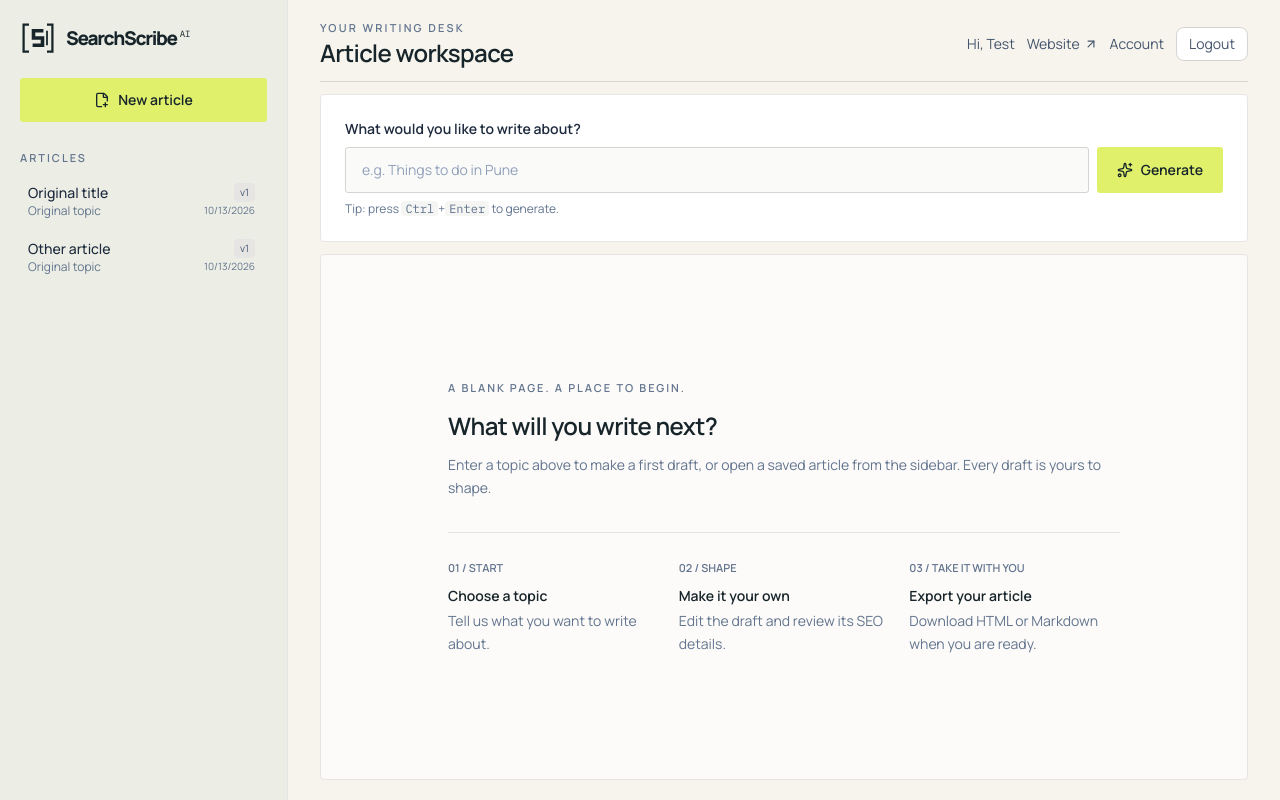
Test case: workspace unsaved edits › deleting articles › closes the open article on delete and reopens it on Undo
Click the button "Original title v1 Original topic 10/13/2026" at coordinates (142, 200), box [20,174,263,226]
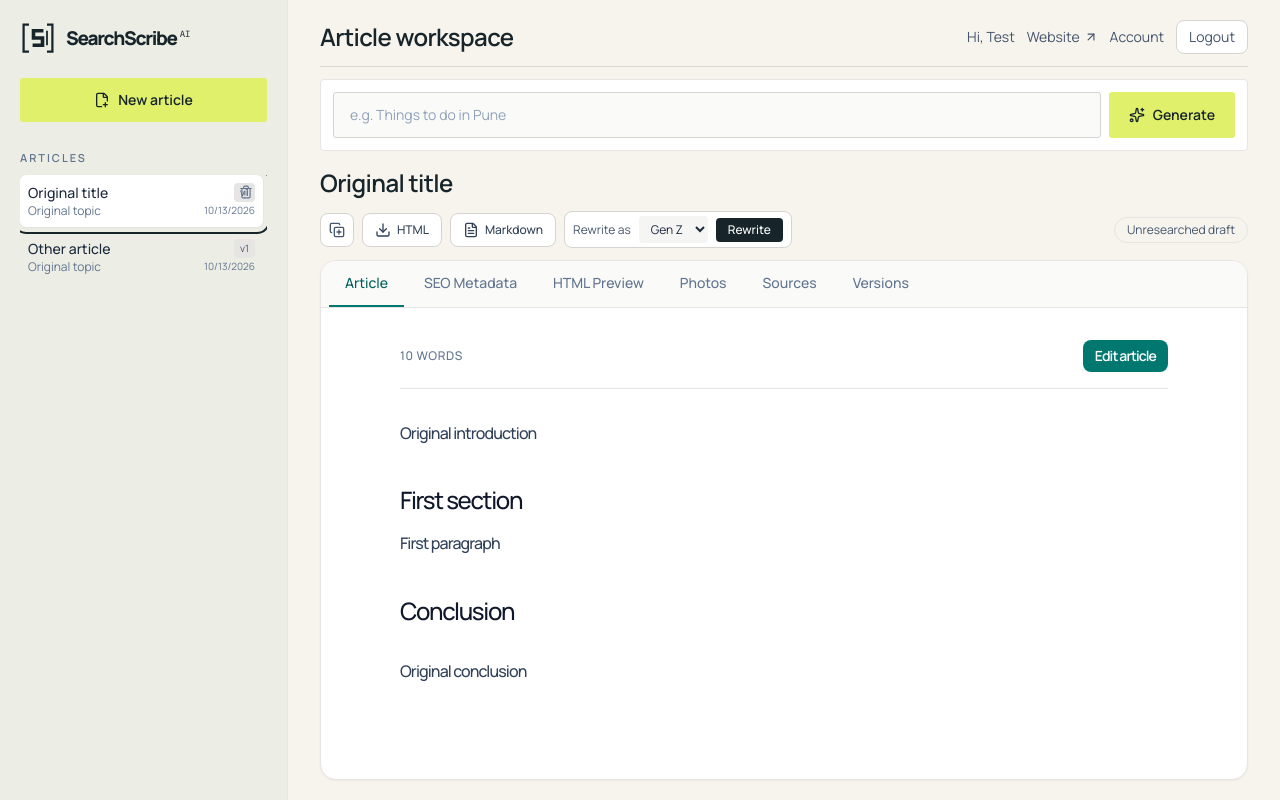
Expected: the button "Edit article" is shown, [1083,340,1168,372]
Click the button named "Delete Original title" at coordinates (246, 192), box [235,180,257,202]
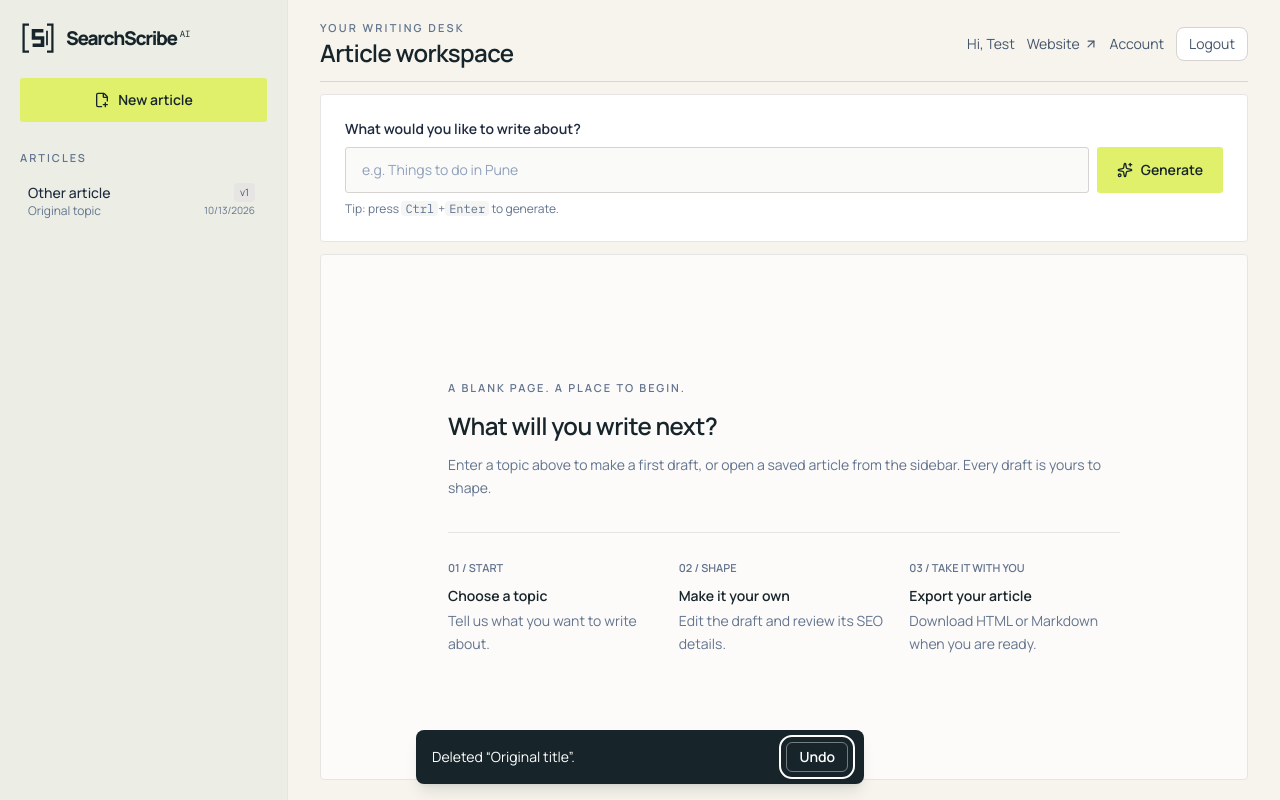
Expected: the button "Edit article" is gone
Click the button "Undo" at coordinates (817, 757), box [786,742,848,772]
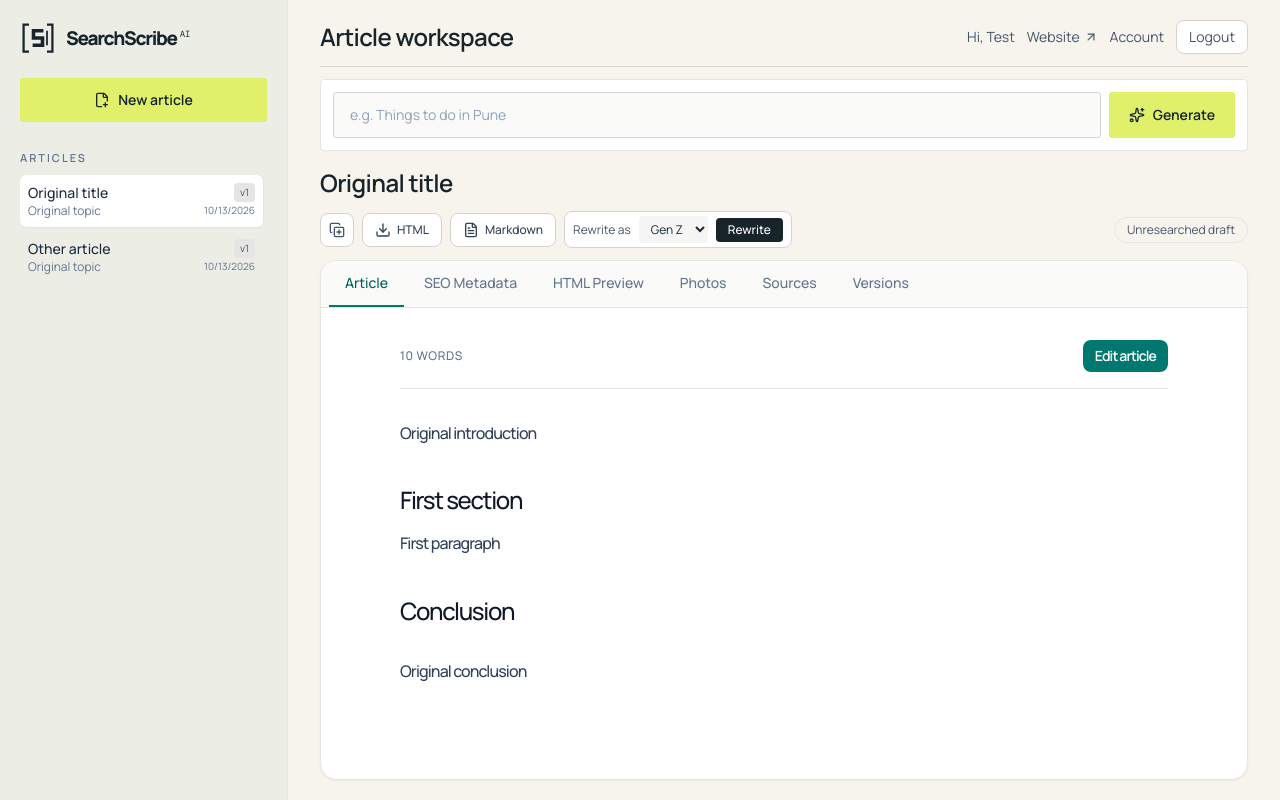
Expected: the button "Edit article" is shown, [1083,340,1168,372]
